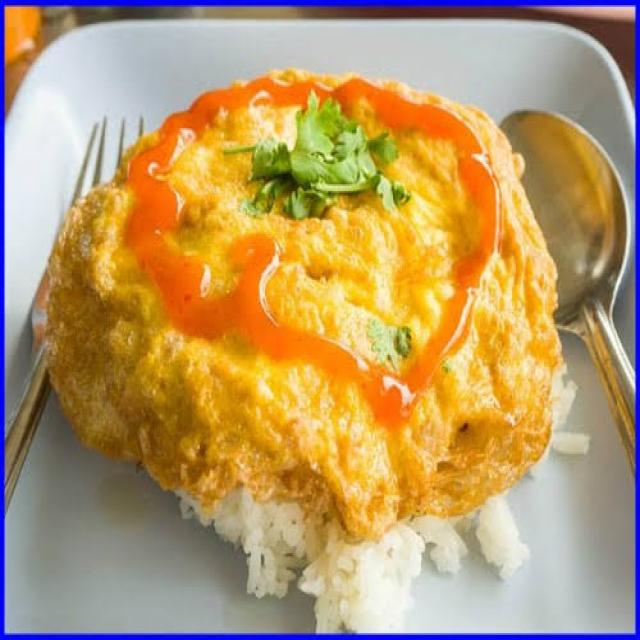carb: (205, 475, 542, 626)
meat: (58, 118, 572, 468)
omelette rice: (52, 74, 592, 599)
